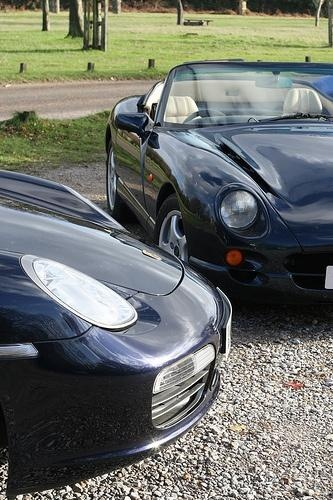car: (1, 167, 234, 495), (105, 59, 333, 309)
